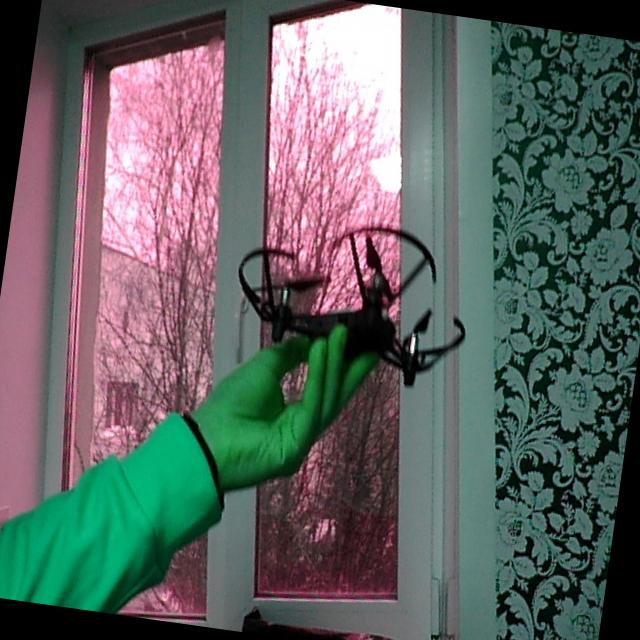drone: (220, 202, 487, 426)
